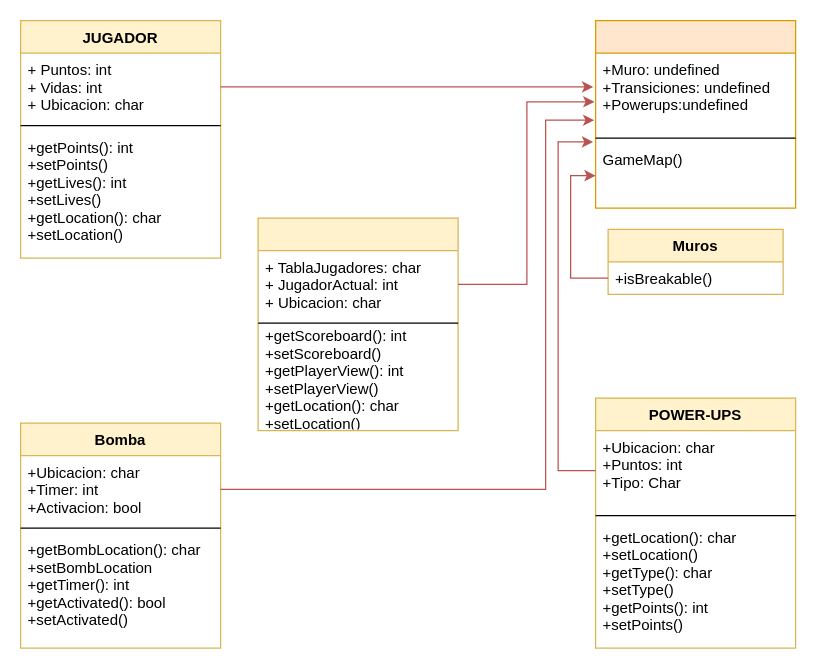
This 816x669 diagram has some shape labels left out. Here are the shapes that lost their labels. From the top down, the box of each, then its label:
(594, 19, 796, 208): MAPA DE JUEGO
(257, 217, 458, 431): ESPECTADOR
